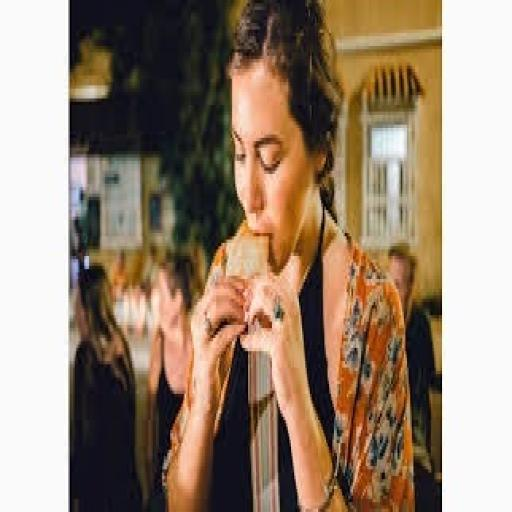eating: (161, 0, 418, 509), (70, 256, 143, 509)
